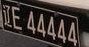E: (12, 7, 22, 30)
